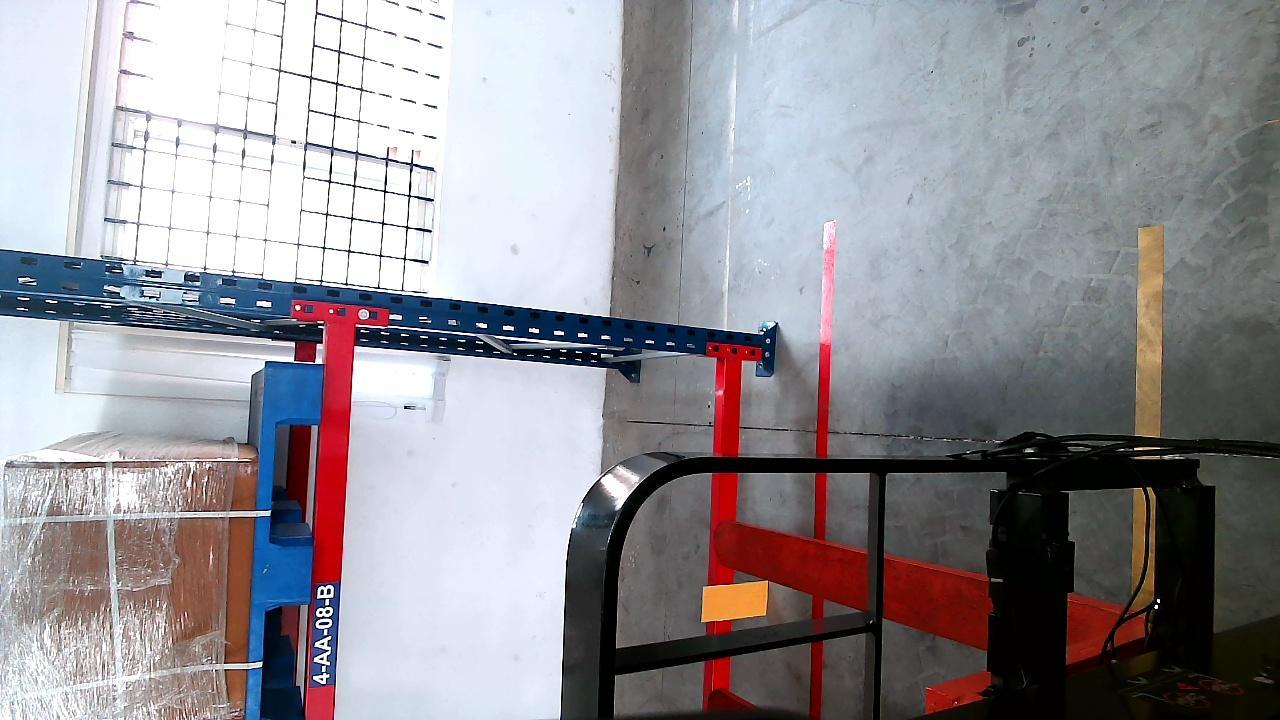red_line: (808, 224, 836, 720)
yellow_line: (1137, 222, 1163, 440)
